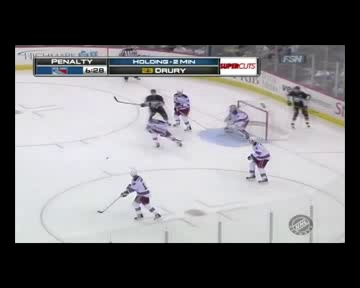normal: (135, 87, 198, 152), (117, 166, 168, 223), (244, 136, 275, 185), (224, 98, 252, 142)
